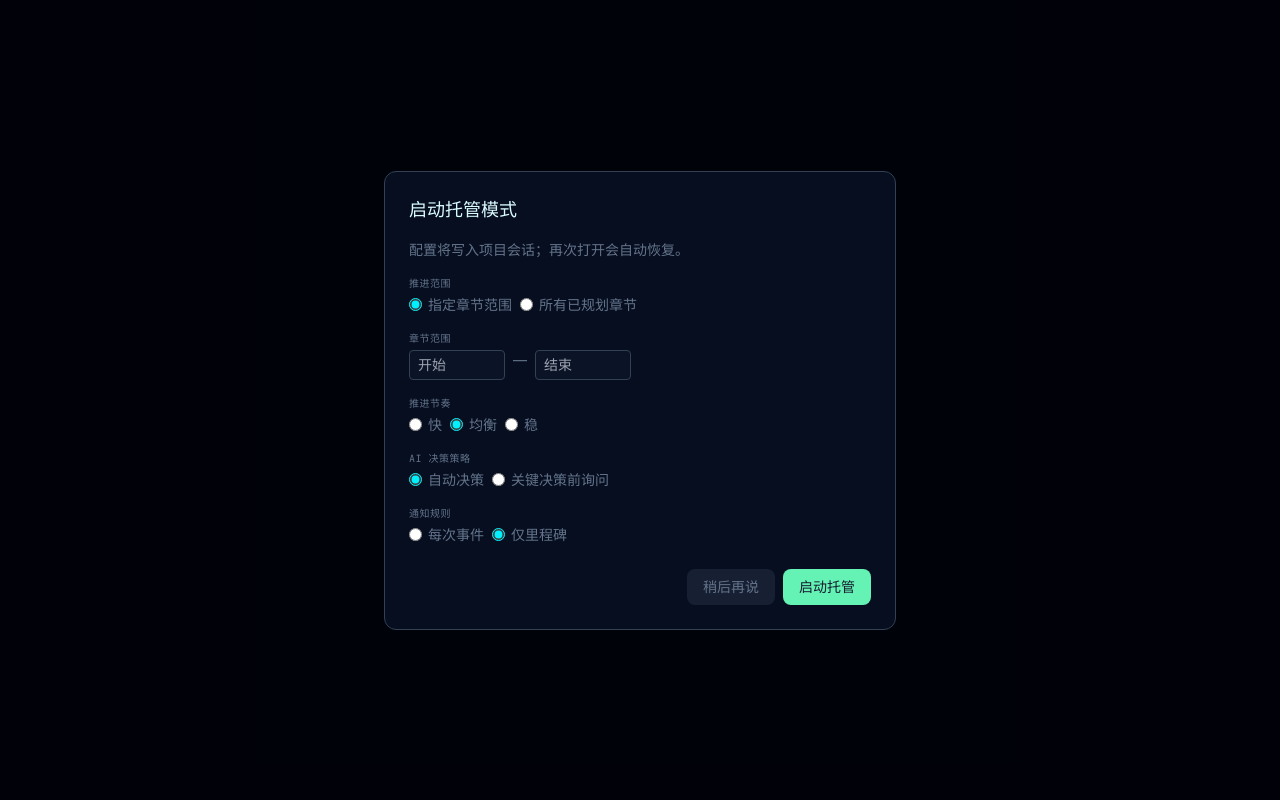
Test case: ManagedStartModal — range scope › selecting all_planned hides start/end inputs
What coordinates should you click on to do the following:
click the radio button showing "all_planned"
I would click on:
 (526, 304)
Its box is [520,298,533,311].
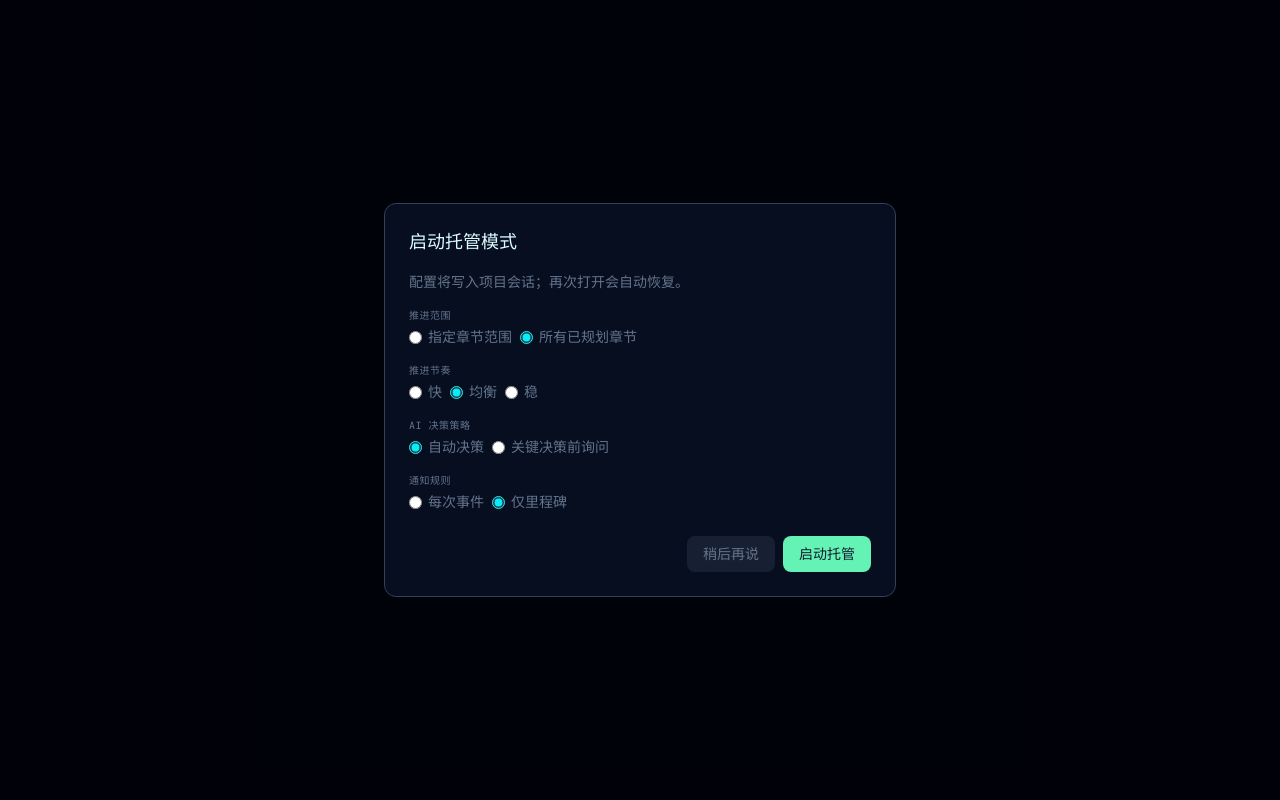
Result: the number field with test id "range-start" is gone
Result: the number field with test id "range-end" is gone
